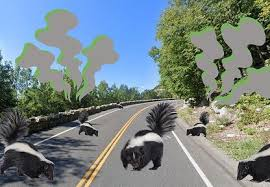skunk: (0, 107, 57, 182), (121, 103, 177, 171), (235, 139, 270, 184), (184, 111, 212, 139), (75, 108, 101, 138)
